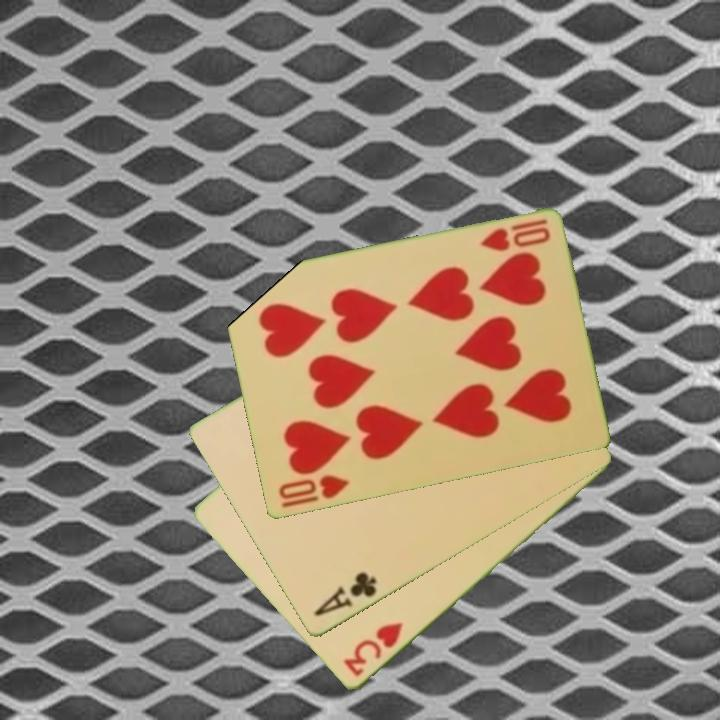10h: (275, 472, 352, 511), (477, 216, 553, 255)
3h: (340, 619, 406, 680)
Ac: (310, 569, 380, 620)
